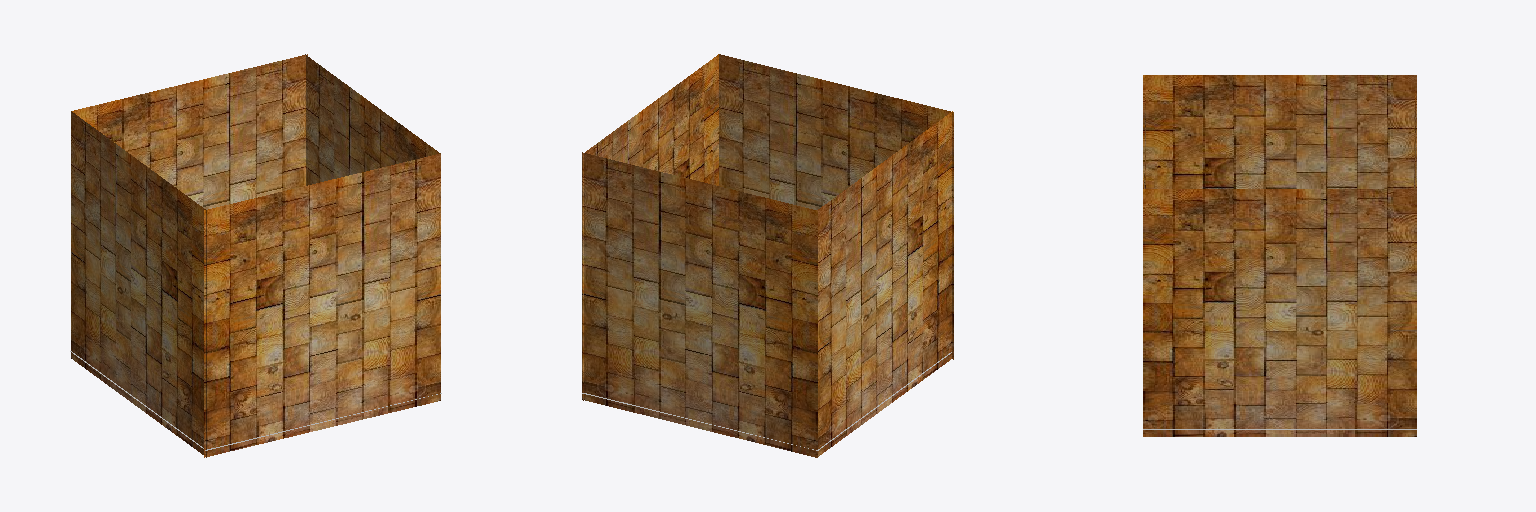
The picture shows the model from 3 angles: view 1: azimuth 30°, elevation 25°; view 2: azimuth 150°, elevation 25°; view 3: azimuth 270°, elevation 25°; orthographic projection.
Parts seen in each view (by area): view 1: Plane.003, Plane.001, Plane.004, Plane.002; view 2: Plane.004, Plane.001, Plane.003, Plane.002; view 3: Plane.002, Plane.001.
Boxes of the visible parts, <box> form: Plane.003: <box>204,154,440,457</box>; Plane.001: <box>71,111,206,457</box>; Plane.004: <box>72,54,307,209</box>; Plane.002: <box>305,54,440,185</box>; Plane.004: <box>582,152,817,457</box>; Plane.001: <box>817,111,952,456</box>; Plane.003: <box>719,54,953,359</box>; Plane.002: <box>583,54,718,400</box>; Plane.002: <box>1143,189,1416,436</box>; Plane.001: <box>1143,75,1416,188</box>.
Bounding box in the file's own units: 20.12 × 20 × 20.
Materials: 2 (1 with a texture image).